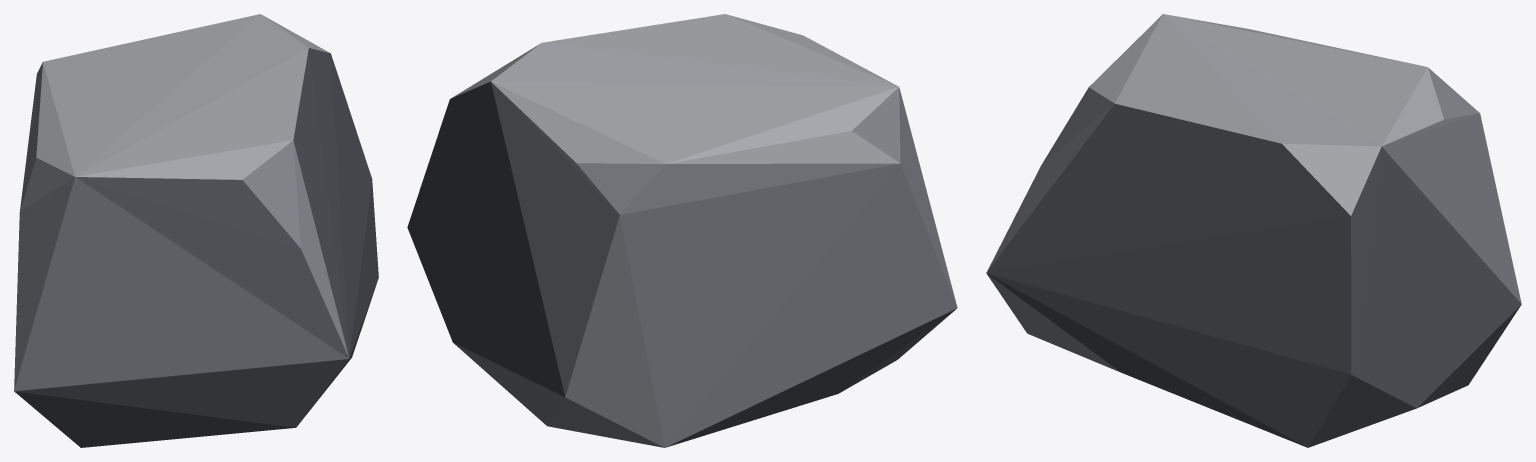
File: rock_medium_b.fbx
3 views of the same model, side by side, from view 1: azimuth 30°, elevation 25°; view 2: azimuth 150°, elevation 25°; view 3: azimuth 270°, elevation 25° (orthographic).
Parts seen in each view (by area): view 1: rock_medium_b; view 2: rock_medium_b; view 3: rock_medium_b.
Part boxes in pixels (box(x1,y1,x2,y2)): rock_medium_b: box(14, 14, 378, 447); rock_medium_b: box(407, 14, 957, 447); rock_medium_b: box(986, 14, 1521, 447).
Size of the model in its own units: 1.6 by 0.9764 by 1.62.
